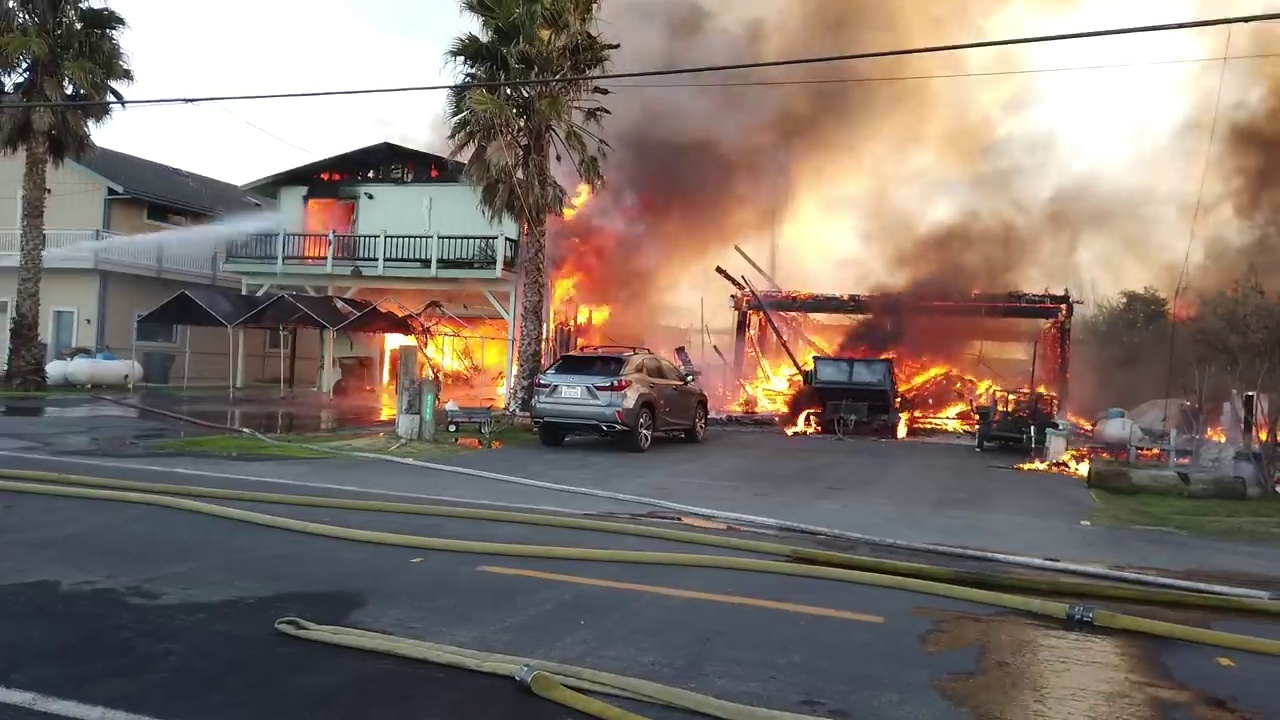fire: (548, 186, 616, 335), (1070, 345, 1190, 411), (416, 310, 511, 377), (298, 198, 357, 258), (737, 359, 801, 411), (1016, 444, 1093, 476), (381, 333, 415, 386), (898, 408, 976, 429), (1007, 377, 1055, 408), (787, 408, 820, 431), (1064, 410, 1092, 428), (1253, 416, 1272, 440), (1205, 424, 1226, 440), (318, 170, 341, 181), (1137, 445, 1159, 455), (876, 347, 896, 357)
smoke: (594, 1, 908, 282), (853, 107, 1187, 344), (912, 4, 1185, 106), (1187, 27, 1279, 311), (620, 281, 734, 366), (696, 367, 736, 414), (426, 161, 445, 180)
